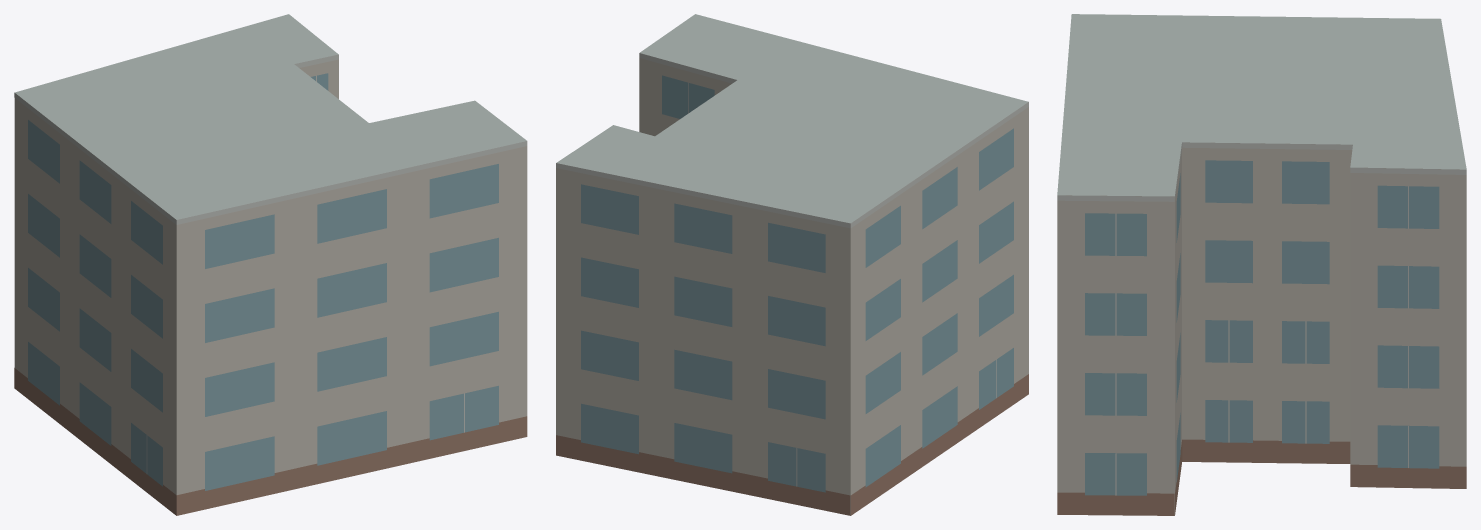
Rendered from survey-upis-32499915.glb.
The picture shows the model from 3 angles, left to right: view 1: azimuth 30°, elevation 25°; view 2: azimuth 150°, elevation 25°; view 3: azimuth 270°, elevation 25°; orthographic projection. The views are drawn at different scales.
Parts seen in each view (by area): view 1: survey-upis-32499915.tmp; view 2: survey-upis-32499915.tmp; view 3: survey-upis-32499915.tmp.
Part boxes in pixels (box(x1,y1,x2,y2)): survey-upis-32499915.tmp: box(14, 14, 527, 515); survey-upis-32499915.tmp: box(556, 14, 1028, 515); survey-upis-32499915.tmp: box(1057, 14, 1466, 515).
Size of the model in its own units: 17.58 by 14.35 by 16.68.
